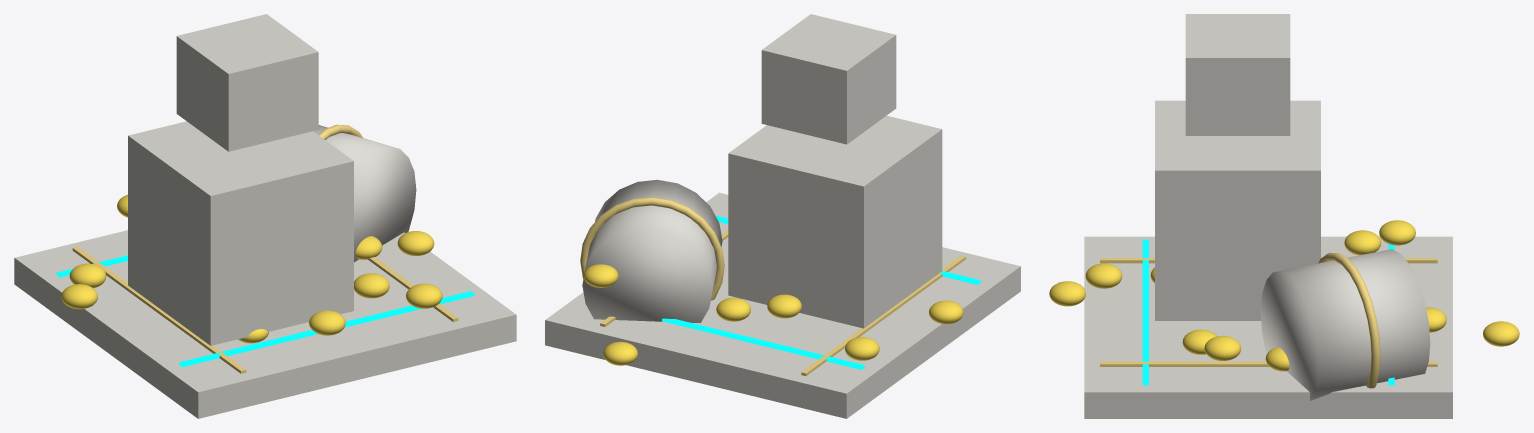
Rendered from accent_masonry_blocks.glb.
3 views of the same model, side by side, from view 1: azimuth 30°, elevation 25°; view 2: azimuth 150°, elevation 25°; view 3: azimuth 270°, elevation 25° (orthographic). The views are drawn at different scales.
Visible parts, largest first — view 1: Cube.005, Cube, Cube.006, Cylinder, Cube.003, Cube.001, Sphere.011, Sphere.007, Sphere.010, Sphere.013, Sphere.012, Sphere.006 (+2 smaller); view 2: Cube.005, Cube, Cylinder, Cube.006, Torus, Cube.004, Cube.001, Sphere.005, Sphere.007, Sphere.003, Sphere.004, Sphere.002 (+1 smaller); view 3: Cube, Cube.005, Cylinder, Cube.006, Torus, Cube.002, Cube.003, Sphere.011, Sphere.005, Sphere.003, Sphere.010, Sphere.013 (+4 smaller).
Part boxes in pixels (left/top/right/bottom): Cube.005: left=128, top=121, right=353, bottom=345; Cube: left=14, top=230, right=516, bottom=418; Cube.006: left=176, top=14, right=318, bottom=151; Cylinder: left=313, top=125, right=416, bottom=262; Cube.003: left=179, top=291, right=474, bottom=366; Cube.001: left=72, top=246, right=246, bottom=373; Sphere.011: left=406, top=283, right=442, bottom=308; Sphere.007: left=61, top=284, right=97, bottom=309; Sphere.010: left=309, top=310, right=345, bottom=335; Sphere.013: left=397, top=231, right=434, bottom=255; Sphere.012: left=354, top=273, right=389, bottom=298; Sphere.006: left=69, top=263, right=106, bottom=288; Cube.005: left=728, top=115, right=942, bottom=328; Cube: left=545, top=192, right=1020, bottom=418; Cylinder: left=582, top=179, right=722, bottom=322; Cube.006: left=761, top=14, right=896, bottom=144; Torus: left=580, top=197, right=724, bottom=300; Cube.004: left=662, top=318, right=864, bottom=369; Cube.001: left=801, top=255, right=965, bottom=375; Sphere.005: left=767, top=294, right=801, bottom=318; Sphere.007: left=929, top=300, right=963, bottom=324; Sphere.003: left=603, top=341, right=637, bottom=365; Sphere.004: left=716, top=297, right=750, bottom=321; Sphere.002: left=584, top=264, right=618, bottom=287; Cube: left=1084, top=236, right=1452, bottom=418; Cube.005: left=1155, top=100, right=1320, bottom=320; Cylinder: left=1260, top=249, right=1430, bottom=400; Cube.006: left=1185, top=14, right=1290, bottom=135; Torus: left=1318, top=252, right=1380, bottom=388; Cube.002: left=1100, top=361, right=1437, bottom=366; Cube.003: left=1142, top=239, right=1148, bottom=385; Sphere.011: left=1049, top=281, right=1085, bottom=306; Sphere.005: left=1379, top=220, right=1415, bottom=245; Sphere.003: left=1483, top=321, right=1519, bottom=346; Sphere.010: left=1085, top=263, right=1122, bottom=288; Sphere.013: left=1204, top=335, right=1241, bottom=360.
Bounding box in the file's own units: 2.8 × 2.13 × 3.06.
